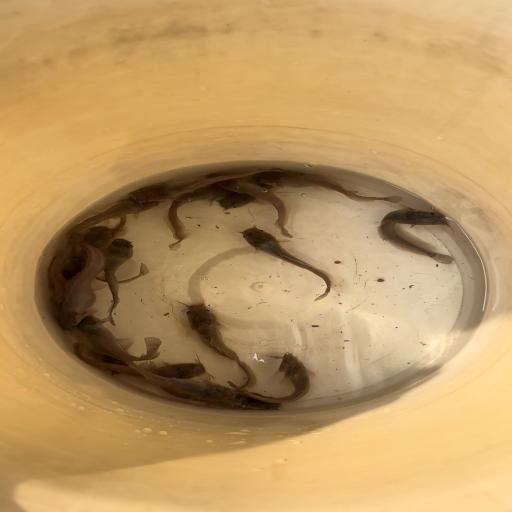lele: (91, 350, 242, 404), (236, 226, 334, 303), (184, 301, 259, 389), (130, 166, 284, 206), (208, 172, 299, 238), (66, 343, 210, 381), (253, 168, 404, 204), (48, 241, 107, 332), (374, 207, 458, 266), (76, 225, 156, 284), (164, 186, 232, 252), (227, 352, 314, 402), (70, 314, 162, 360), (64, 198, 160, 240), (101, 237, 143, 327), (159, 384, 284, 412), (46, 246, 83, 307), (210, 183, 280, 212), (91, 350, 130, 376)
